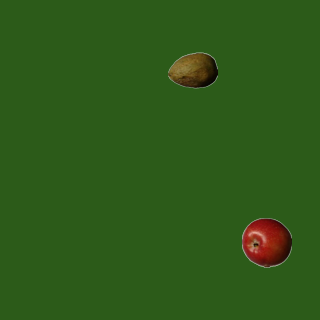Apple Braeburn: (241, 217, 291, 267)
Papaya: (167, 45, 217, 95)
